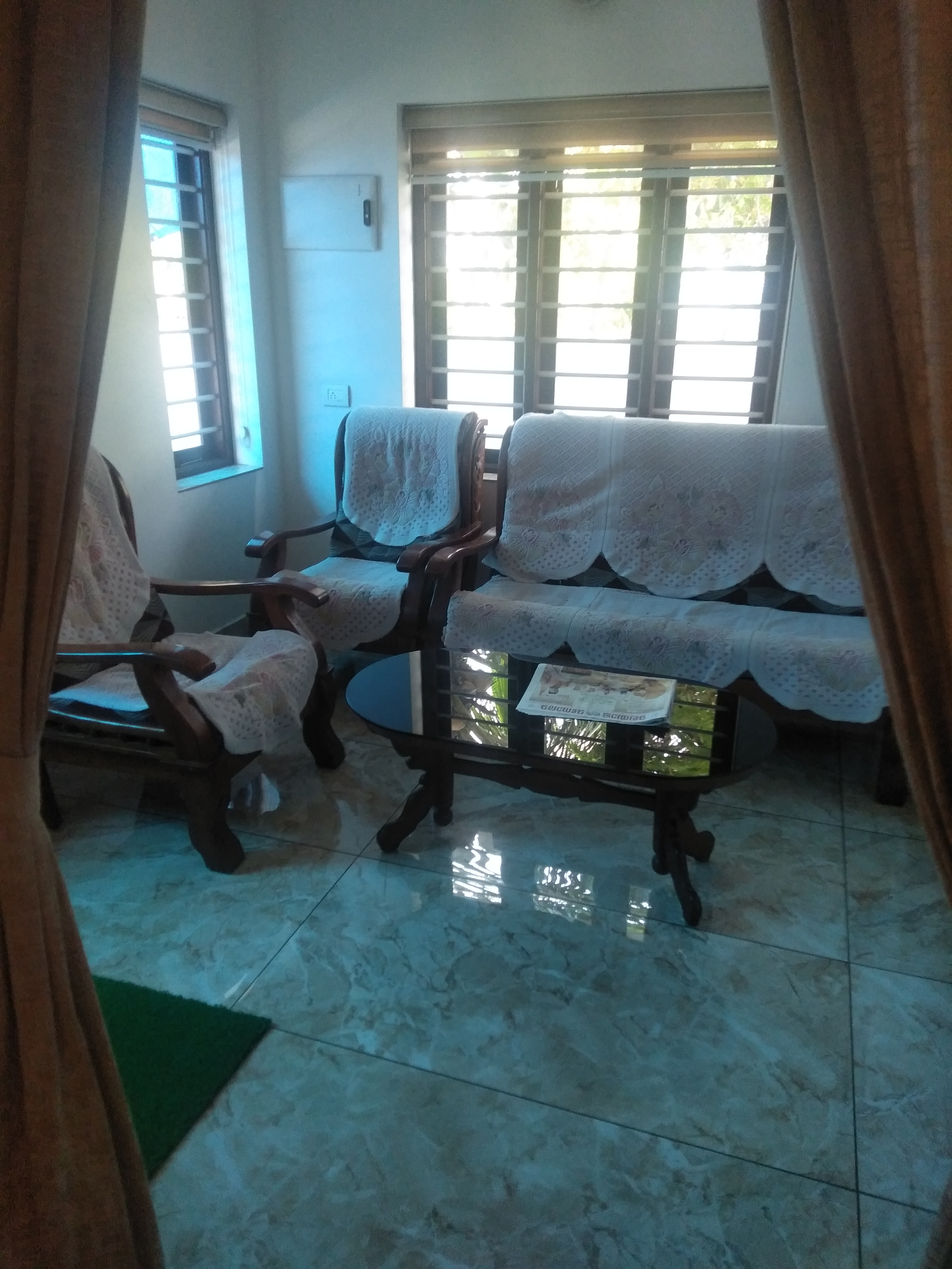sofa: (426, 411, 952, 807), (44, 442, 344, 874), (254, 406, 488, 716)
table: (348, 649, 780, 927)
